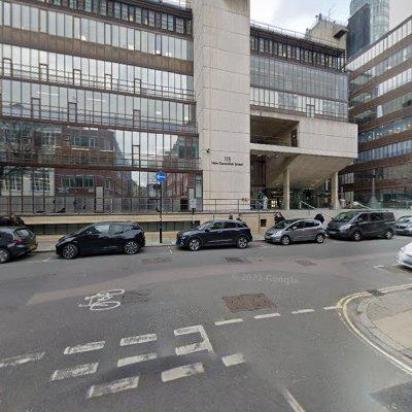stationary-car-onstreet: (54, 220, 146, 256), (175, 217, 253, 250), (264, 218, 326, 246), (0, 226, 38, 262), (397, 235, 411, 285), (392, 214, 412, 236)
stationary-light-truck-onstreet: (327, 208, 393, 240)
